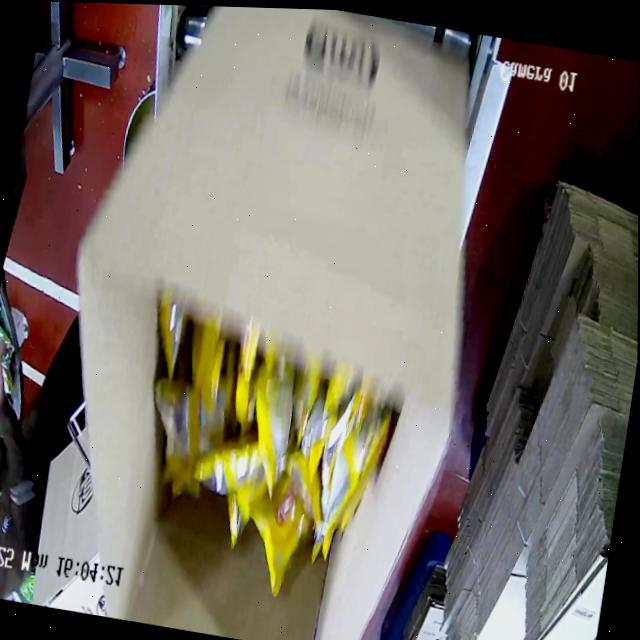SALTED: (151, 333, 426, 573)
